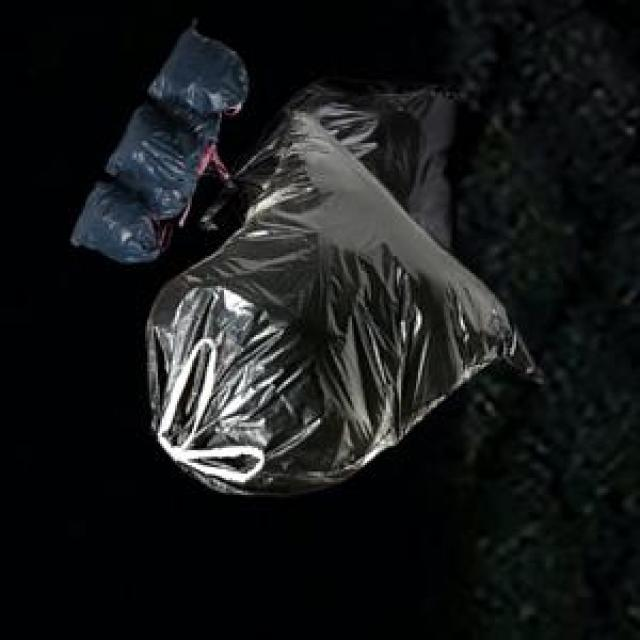Vinyl: (146, 80, 534, 496), (71, 26, 248, 262)
